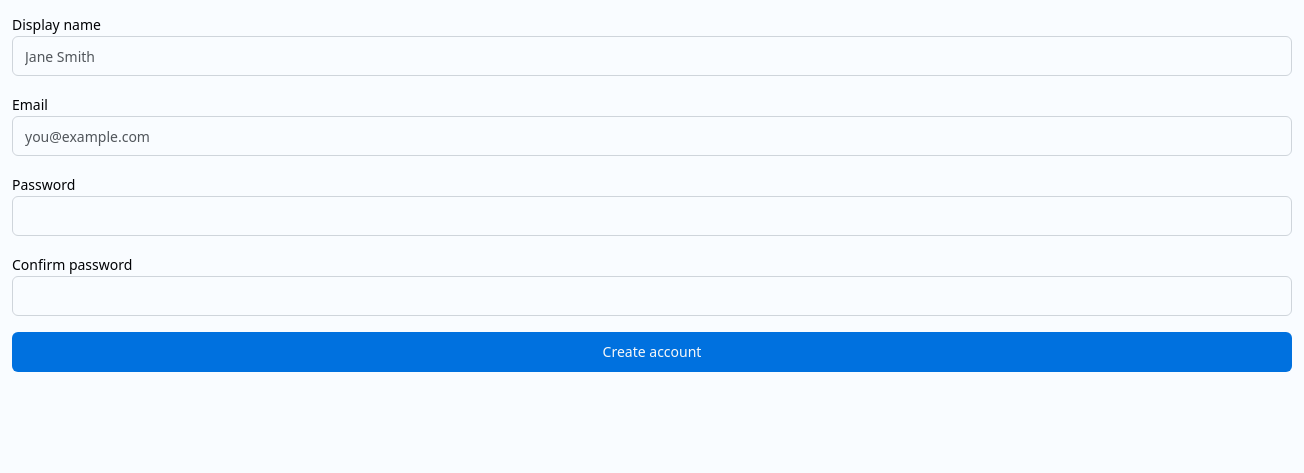
Test: RegisterForm › displayName validation › shows error when display name is too short (< 2 chars)
# Type just one character — shorter than the min of 2
Step 1. Type "A" into the field labelled "Display name" → (652, 56), box left=12, top=36, right=1292, bottom=76
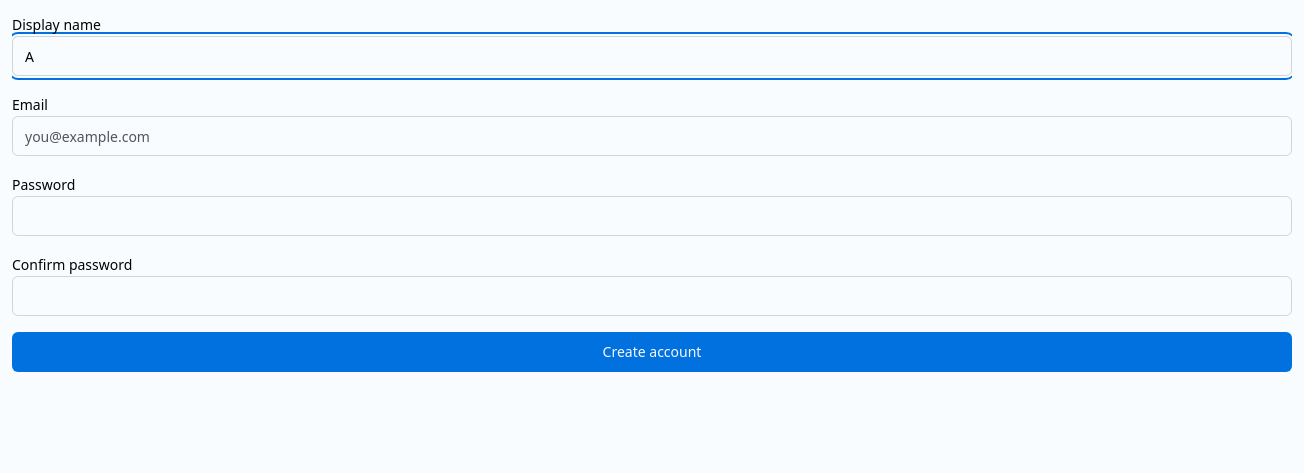
Step 2. Click the button "Create account" → (652, 352), box left=12, top=332, right=1292, bottom=372
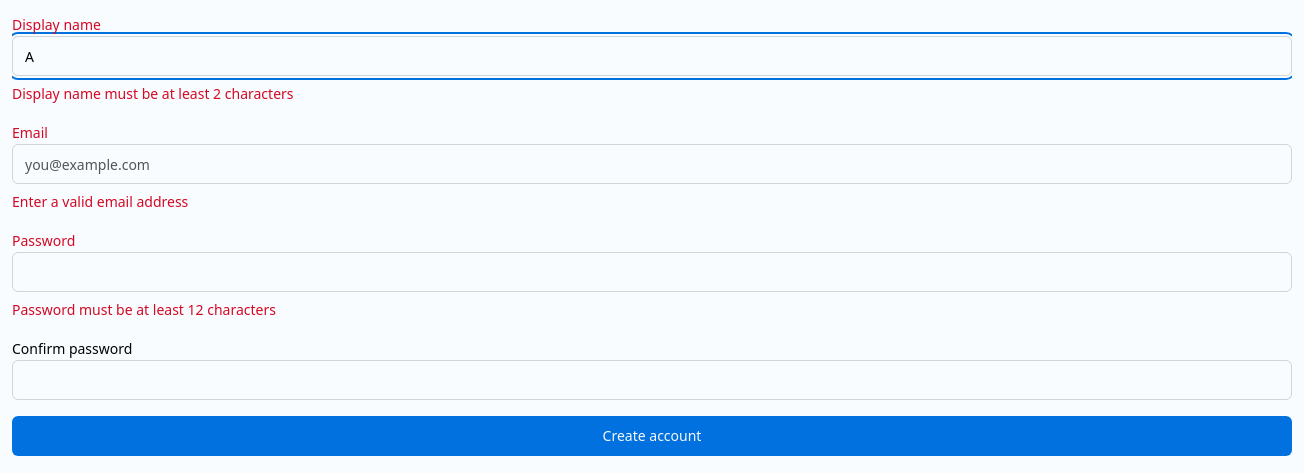
Now the text "Display name must be at least 2 characters" is shown, box left=12, top=84, right=294, bottom=103
